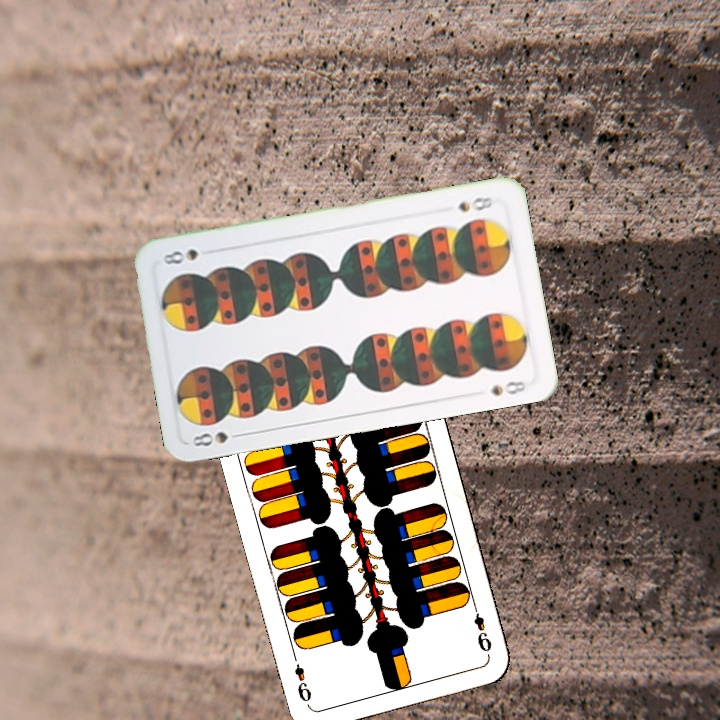E9: (468, 599, 494, 655)
S8: (188, 427, 247, 449), (454, 193, 498, 215)
